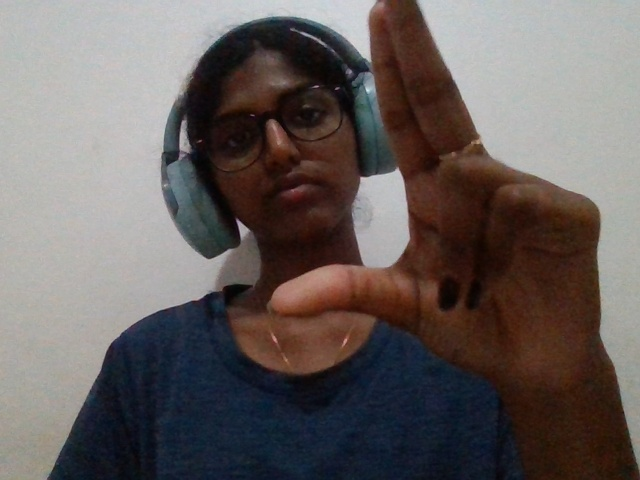No: (241, 6, 640, 440)
